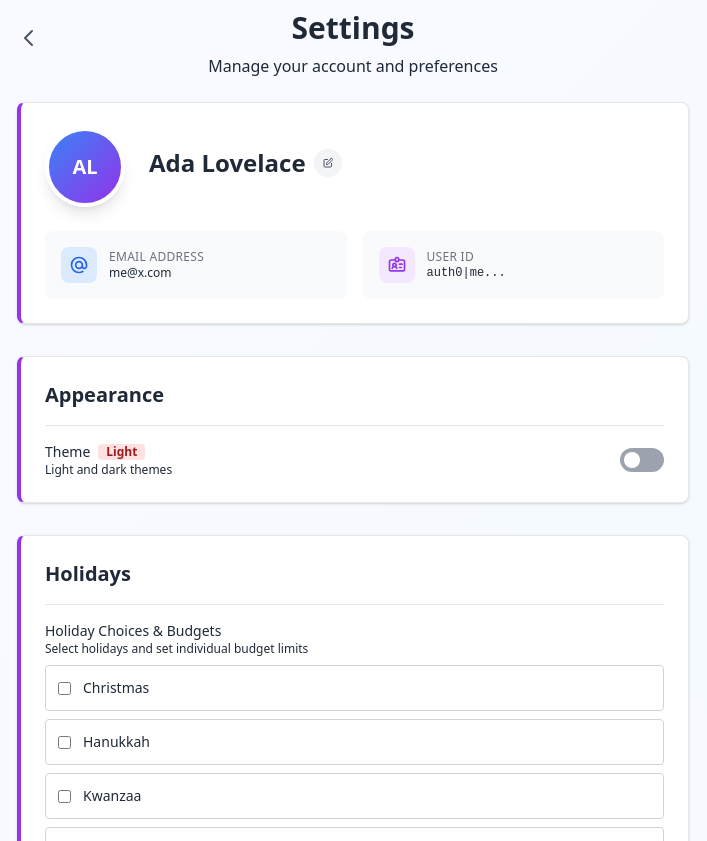
Settings page › editing the display name › saves a new name, then refreshes the home data
Click the button titled "Edit name": (328, 163) [314,149,342,177]
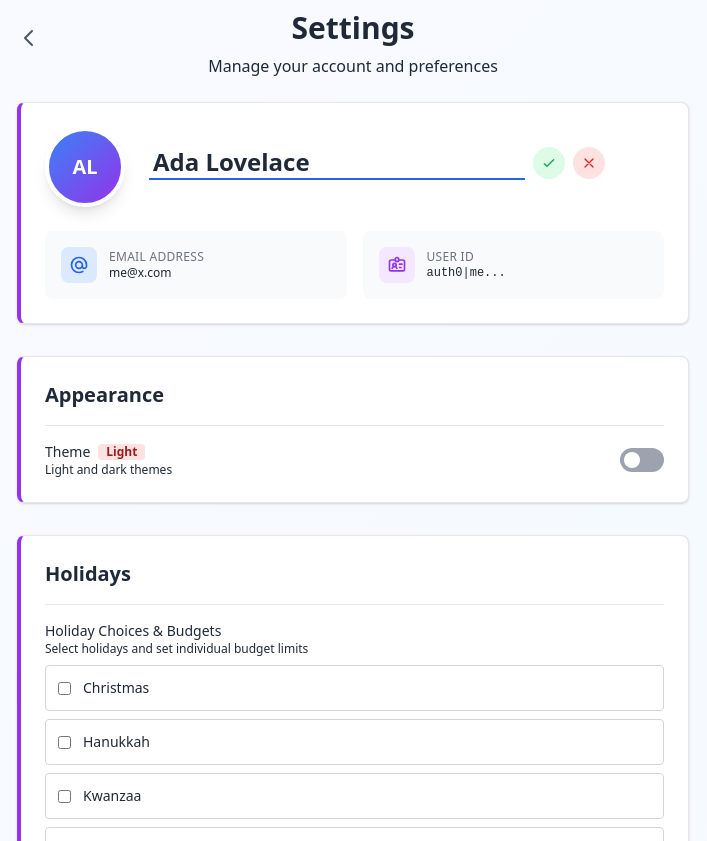
Replace the text in the field with placeholder "Enter your name" with "  Grace Hopper ": (337, 163) [149,146,525,180]
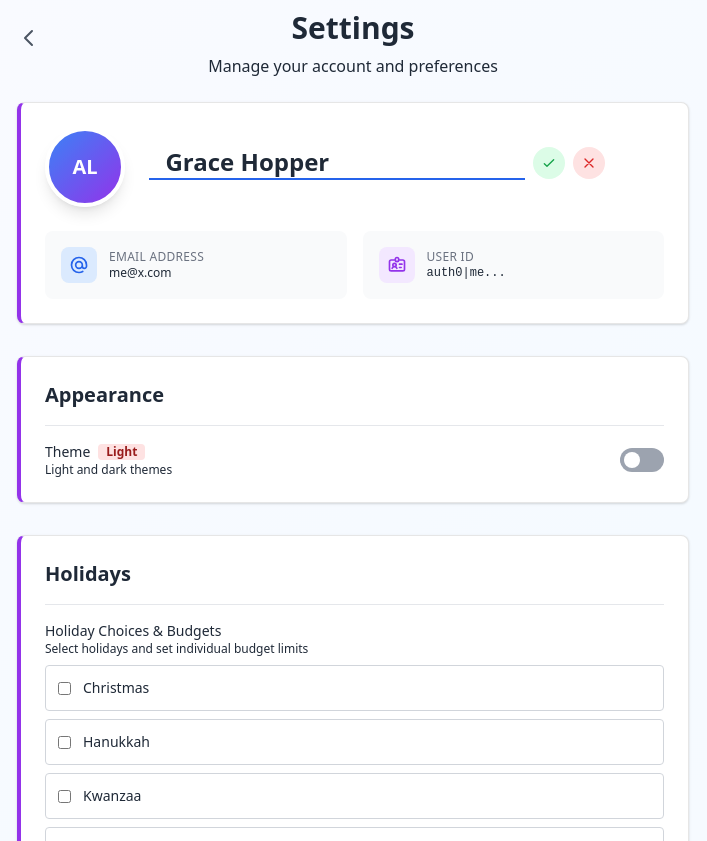
Click the button titled "Save": (549, 163) [533,147,565,179]
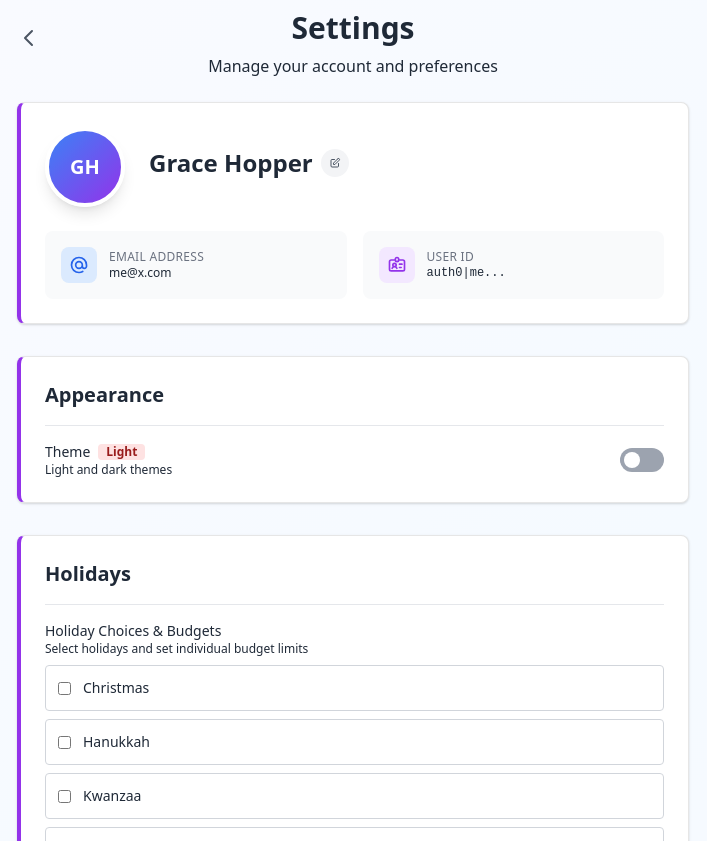
Now the heading "Grace Hopper" is shown, box [149,147,313,179]
